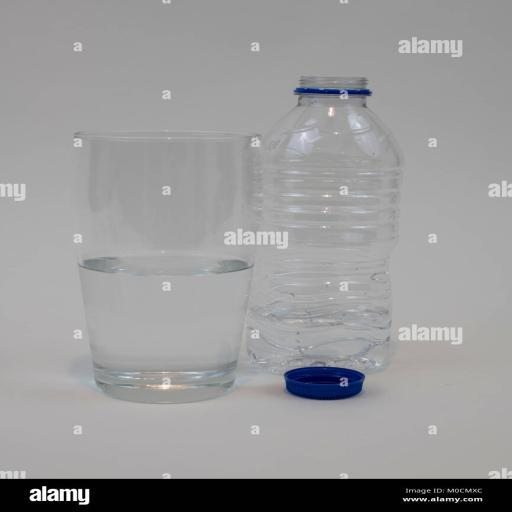bottle: (228, 60, 414, 396)
